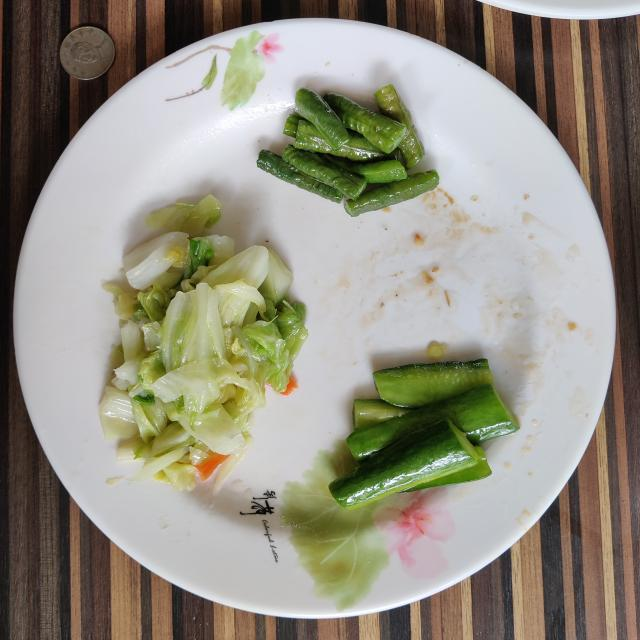cabbage: (99, 195, 308, 491)
coin: (60, 26, 115, 80)
cucumber: (329, 359, 519, 510)
